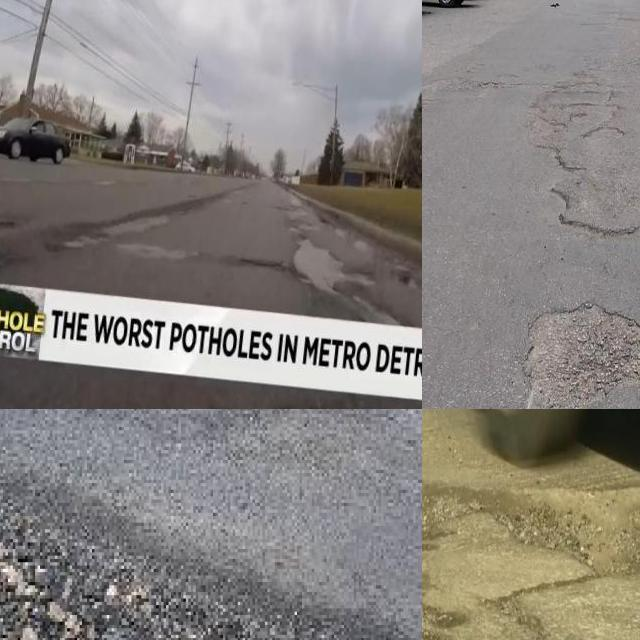Pothole: (498, 486, 640, 575), (523, 294, 640, 399), (519, 482, 640, 575), (297, 247, 372, 311), (422, 485, 492, 547), (293, 239, 373, 292), (73, 210, 155, 256), (293, 239, 344, 291), (117, 243, 198, 260), (102, 216, 170, 236), (238, 256, 289, 272), (392, 270, 422, 294), (286, 218, 319, 233), (382, 256, 412, 270), (272, 202, 298, 213), (353, 240, 370, 252), (214, 196, 237, 203), (319, 215, 331, 227)
